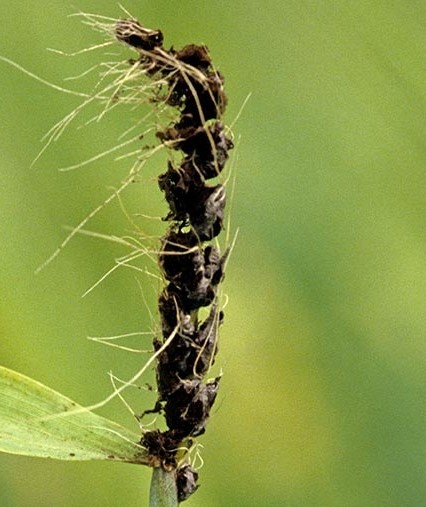Wheat Loose Smut: (108, 13, 247, 436)
